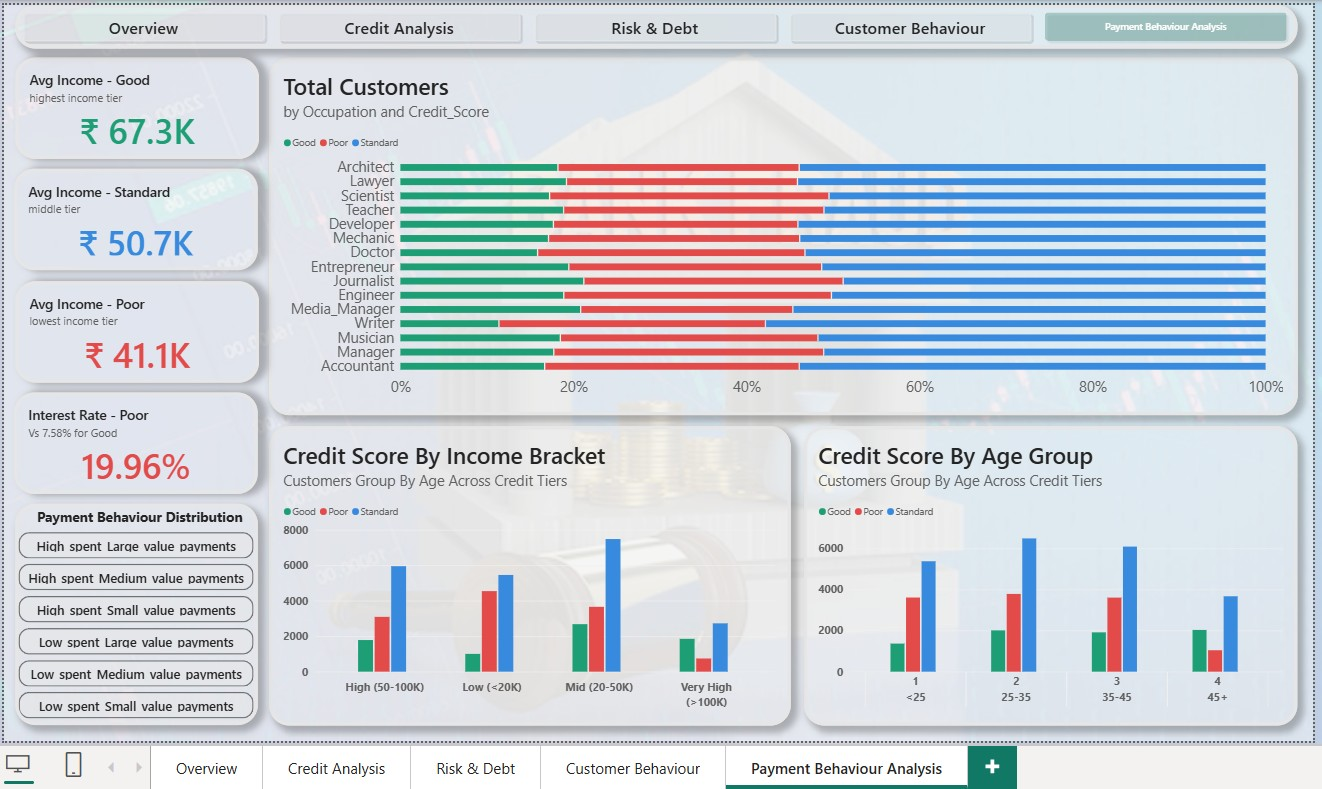

The page's visual inventory and layout, read from the dashboard file:
{"tool":"powerbi","page":{"name":"Payment Behaviour Analysis","canvas":[1920,1080],"ordinal":4},"visuals":[{"type":"hundredPercentStackedBarChart","fields":{"Category":["paisabazar_bank_fraud_detection_project-dataset.Occupation"],"Series":["paisabazar_bank_fraud_detection_project-dataset.Credit_Score"],"Y":["paisabazar_bank_fraud_detection_project-dataset.Total Customers"]},"box":[388.9,77,1509.6,524.6],"z":0},{"type":"clusteredColumnChart","title":"Credit Score By Age Group","fields":{"Y":["paisabazar_bank_fraud_detection_project-dataset.Total Customers"],"Series":["paisabazar_bank_fraud_detection_project-dataset.Credit_Score"],"Category":["paisabazar_bank_fraud_detection_project-dataset.Age Group","paisabazar_bank_fraud_detection_project-dataset.Age Group Order"]},"box":[1174.1,618.4,724.3,438.9],"z":1000},{"type":"clusteredColumnChart","title":"Credit Score By Income Bracket","fields":{"Y":["paisabazar_bank_fraud_detection_project-dataset.Total Customers"],"Series":["paisabazar_bank_fraud_detection_project-dataset.Credit_Score"],"Category":["paisabazar_bank_fraud_detection_project-dataset.Income Bracket"]},"box":[389.2,618.4,765.4,438.9],"z":3000},{"type":"card","title":"Avg Income - Good","fields":{"Values":["paisabazar_bank_fraud_detection_project-dataset.Avg Income Good"]},"box":[16.5,77,357.7,148.6],"z":4000},{"type":"card","title":"Avg Income - Poor","fields":{"Values":["paisabazar_bank_fraud_detection_project-dataset.Avg Income Poor"]},"box":[16.5,405.4,357.7,148.6],"z":5000},{"type":"card","title":"Interest Rate - Poor","fields":{"Values":["paisabazar_bank_fraud_detection_project-dataset.Avg IR Poor"]},"box":[14.7,568.6,357.7,148.6],"z":6000},{"type":"card","title":"Avg Income - Standard","fields":{"Values":["paisabazar_bank_fraud_detection_project-dataset.Avg Income Standard"]},"box":[14.7,240.3,357.7,148.6],"z":7000},{"type":"advancedSlicerVisual","title":"Payment Behaviour Distribution","fields":{"Values":["paisabazar_bank_fraud_detection_project-dataset.Payment_Behaviour"]},"box":[16.5,731.9,355.8,324.7],"z":8000},{"type":"pageNavigator","box":[16.5,0,1881.9,64.2],"z":8001}]}

Visuals, with their boxes on the page's 1920x1080 design canvas (x1, y1, x2, y2). These are canvas units, not pixel positions in the 1322x789 screenshot, which may show the page scaled, cropped or inside an application window:
hundredPercentStackedBarChart - paisabazar_bank_fraud_detection_project-dataset.Occupation x paisabazar_bank_fraud_detection_project-dataset.Credit_Score: [389, 77, 1898, 602]
"Credit Score By Age Group" clusteredColumnChart: [1174, 618, 1898, 1057]
"Credit Score By Income Bracket" clusteredColumnChart: [389, 618, 1155, 1057]
"Avg Income - Good" card: [16, 77, 374, 226]
"Avg Income - Poor" card: [16, 405, 374, 554]
"Interest Rate - Poor" card: [15, 569, 372, 717]
"Avg Income - Standard" card: [15, 240, 372, 389]
"Payment Behaviour Distribution" advancedSlicerVisual: [16, 732, 372, 1057]
pageNavigator: [16, 0, 1898, 64]
